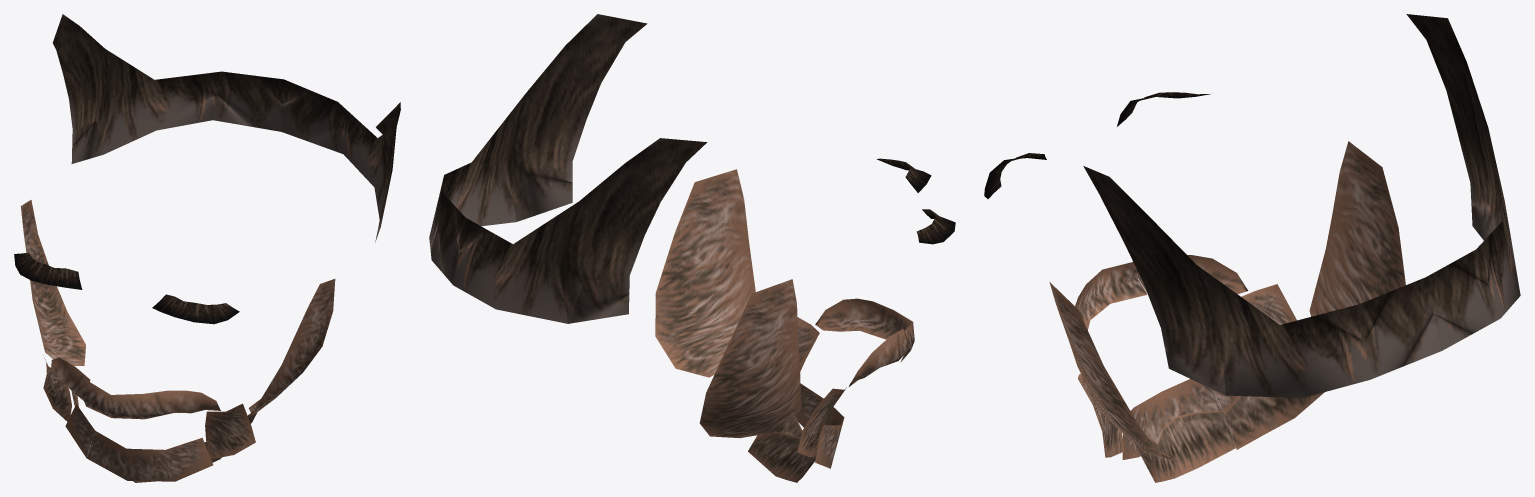
File: Doug_HAIR.obj
3 renders of one model, left to right at view 1: azimuth 30°, elevation 25°; view 2: azimuth 150°, elevation 25°; view 3: azimuth 270°, elevation 25°, orthographic. The views are drawn at different scales.
Parts seen in each view (by area): view 1: Doug_HAIR; view 2: Doug_HAIR; view 3: Doug_HAIR.
Part boxes in pixels (left/top/right/bottom): Doug_HAIR: left=14, top=14, right=400, bottom=482; Doug_HAIR: left=429, top=14, right=955, bottom=482; Doug_HAIR: left=984, top=14, right=1520, bottom=482.
Size of the model in its own units: 2.17 by 1.98 by 2.05.
